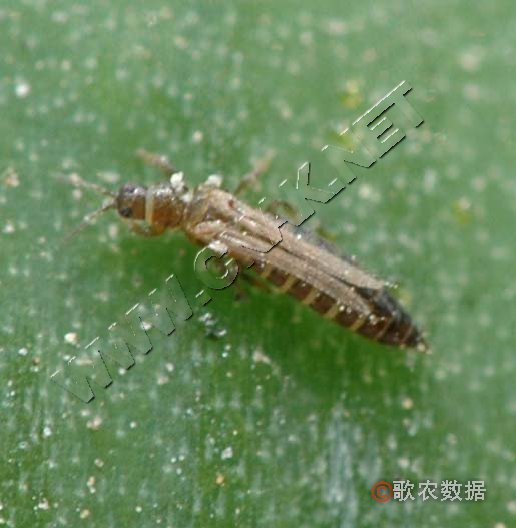thrips: (49, 145, 429, 352)
